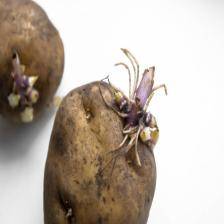Sprouted potato: (32, 30, 168, 224), (0, 0, 65, 125)
